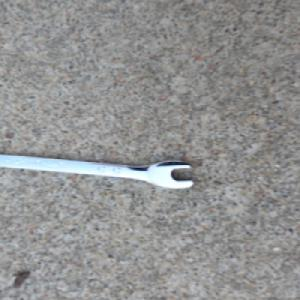Wrench: (0, 152, 197, 190)
